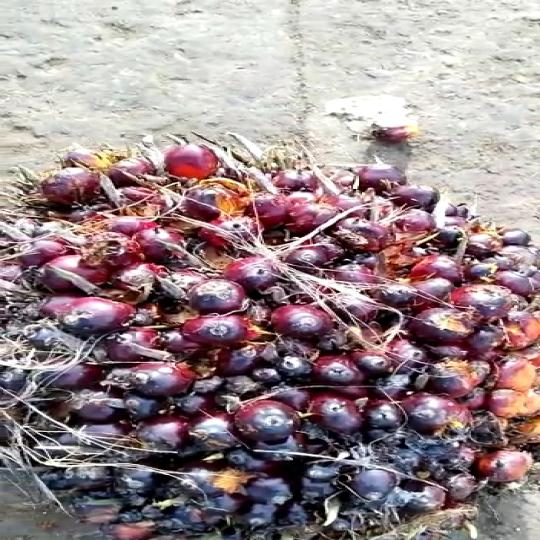masak: (0, 127, 540, 540)
